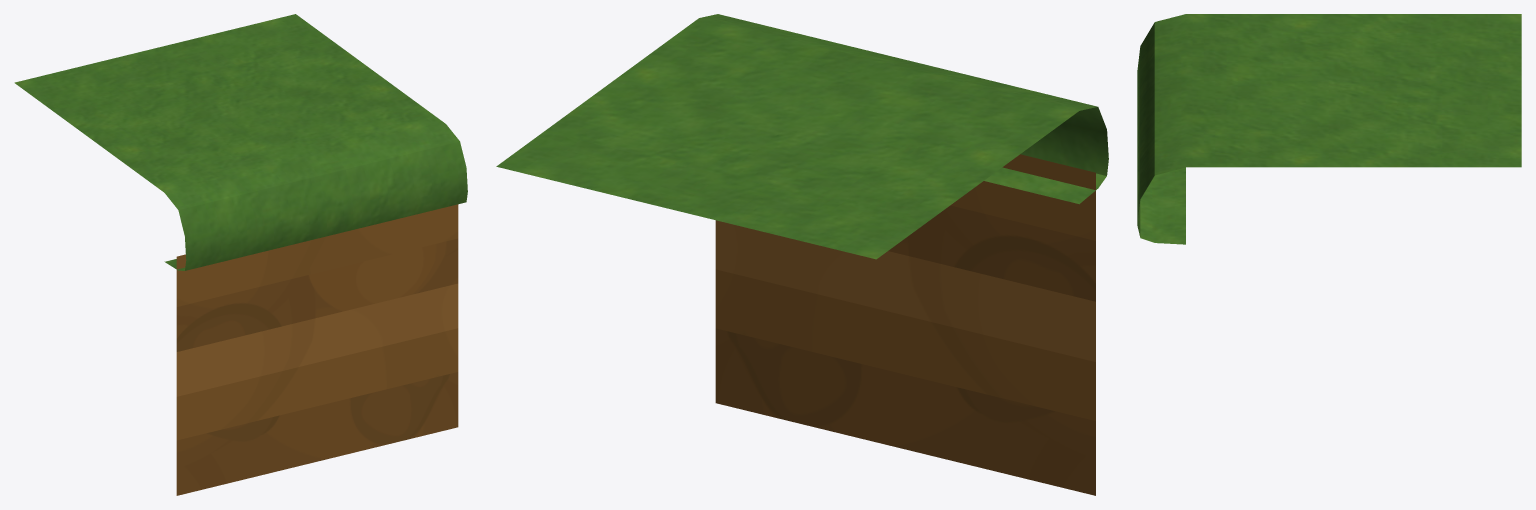
File: cube_grass_side.obj
3 views of the same model, side by side, from view 1: azimuth 30°, elevation 25°; view 2: azimuth 150°, elevation 25°; view 3: azimuth 270°, elevation 25° (orthographic). The views are drawn at different scales.
Parts seen in each view (by area): view 1: Cube_Grass_Side_Tall_Cube.384; view 2: Cube_Grass_Side_Tall_Cube.384; view 3: Cube_Grass_Side_Tall_Cube.384.
Boxes of the visible parts, bbox=[...] form: Cube_Grass_Side_Tall_Cube.384: bbox=[14, 14, 467, 495]; Cube_Grass_Side_Tall_Cube.384: bbox=[496, 14, 1108, 495]; Cube_Grass_Side_Tall_Cube.384: bbox=[1137, 14, 1521, 244].
Bounding box in the file's own units: 2 × 2 × 2.12.
Materials: 4 (4 with a texture image).
